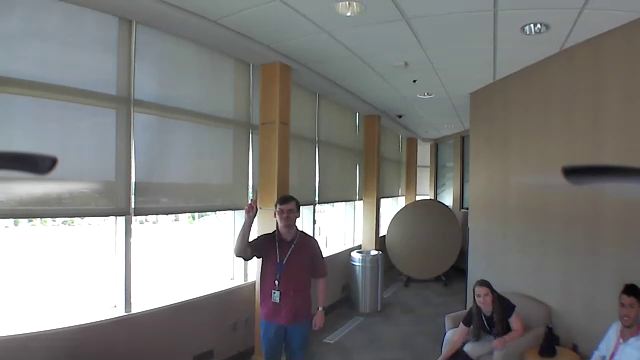up: (238, 189, 261, 223)
